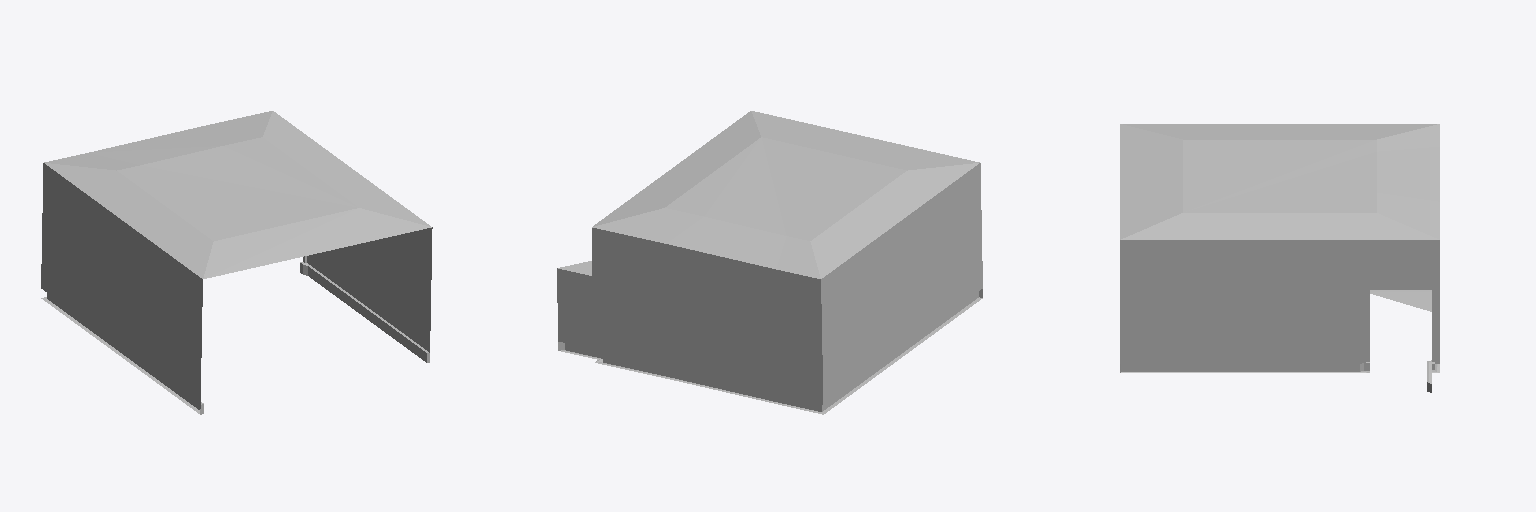
The model's file is NaturalHistoryGallery_Walls.obj.
The picture shows the model from 3 angles: view 1: azimuth 30°, elevation 25°; view 2: azimuth 150°, elevation 25°; view 3: azimuth 270°, elevation 25°; orthographic projection.
Visible parts, largest first — view 1: NautralHistoryGallery; view 2: NautralHistoryGallery; view 3: NautralHistoryGallery.
Part boxes in pixels (x1,y1,x2,y2): NautralHistoryGallery: (41, 111, 432, 414); NautralHistoryGallery: (557, 111, 982, 414); NautralHistoryGallery: (1120, 124, 1439, 392).
Size of the model in its own units: 175 by 89.05 by 179.